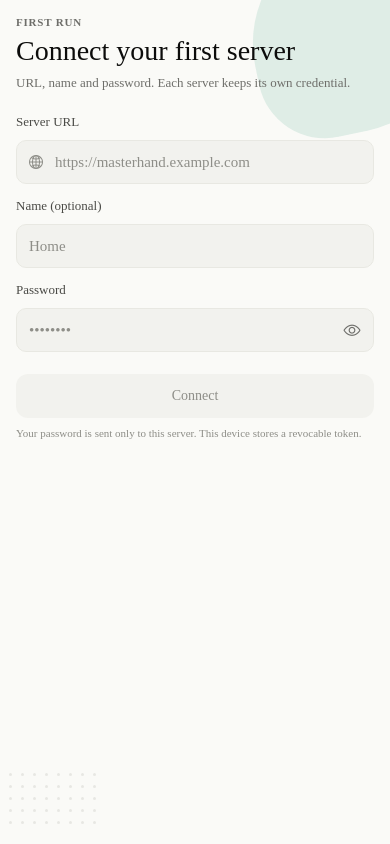
Test case: App — login errors › reports an unreachable server for non-HTTP failures
Type "https://host" into the field with test id "server-url-input" at x=195, y=162, box [16, 140, 374, 184]
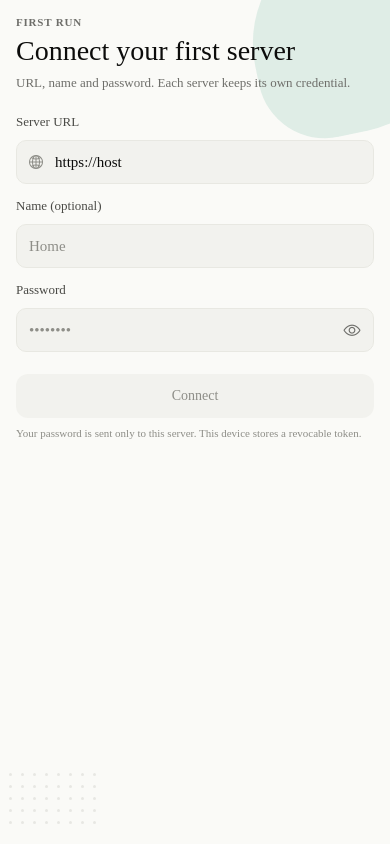
Type "pw" into the password field with test id "password-input" at x=195, y=330, box [16, 308, 374, 352]
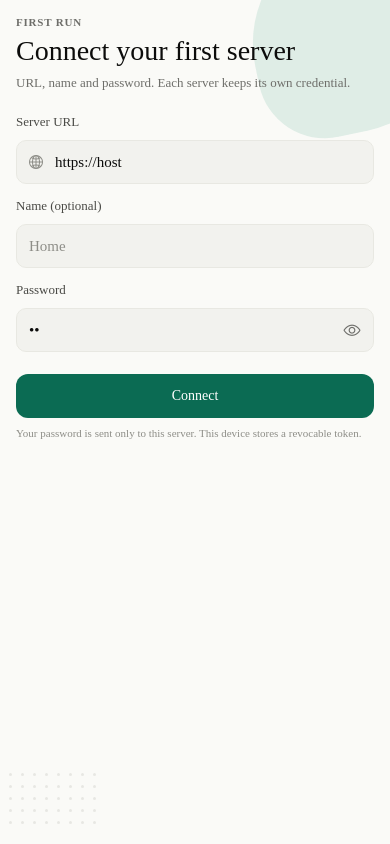
Click the button with test id "connect-button" at x=195, y=396, box [16, 374, 374, 418]
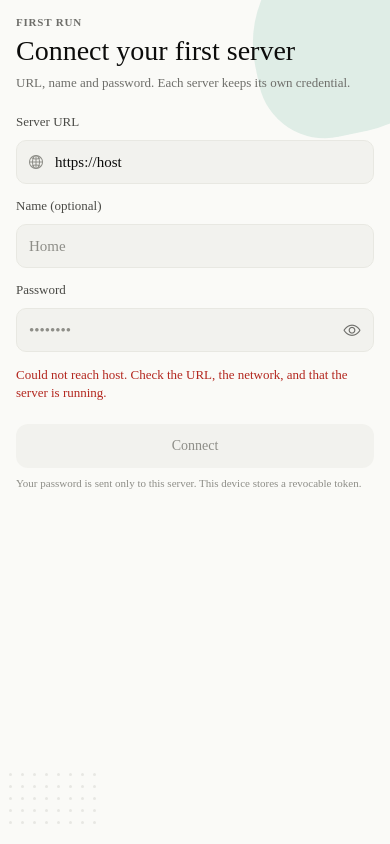
Check: the text "Could not reach host" is shown, box [16, 367, 351, 400]
